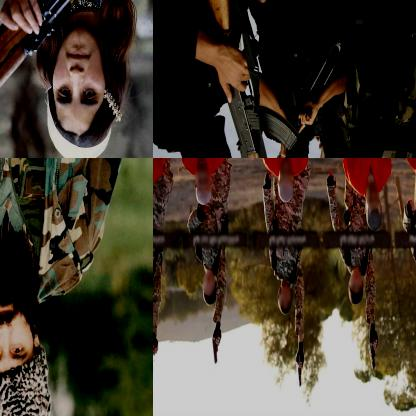pistol: (210, 327, 222, 368), (293, 351, 305, 387), (367, 332, 379, 368), (153, 341, 160, 376)
rifle: (0, 0, 152, 157), (197, 0, 300, 157), (249, 98, 312, 157)
